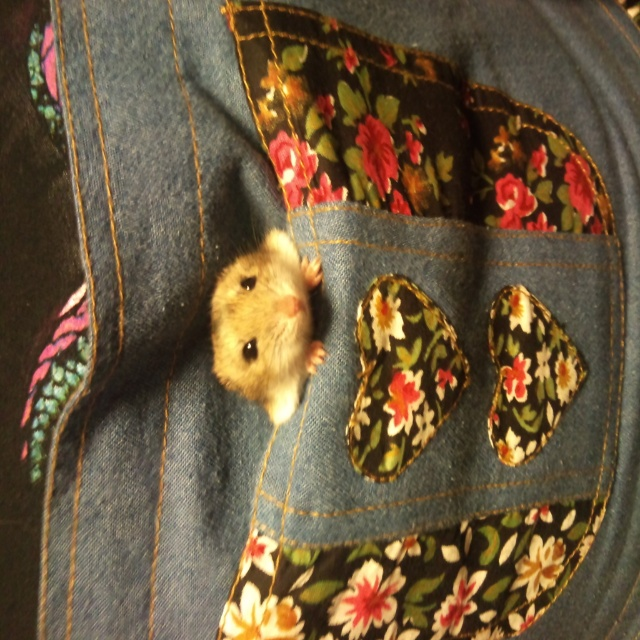Hamster: (196, 222, 327, 427)
